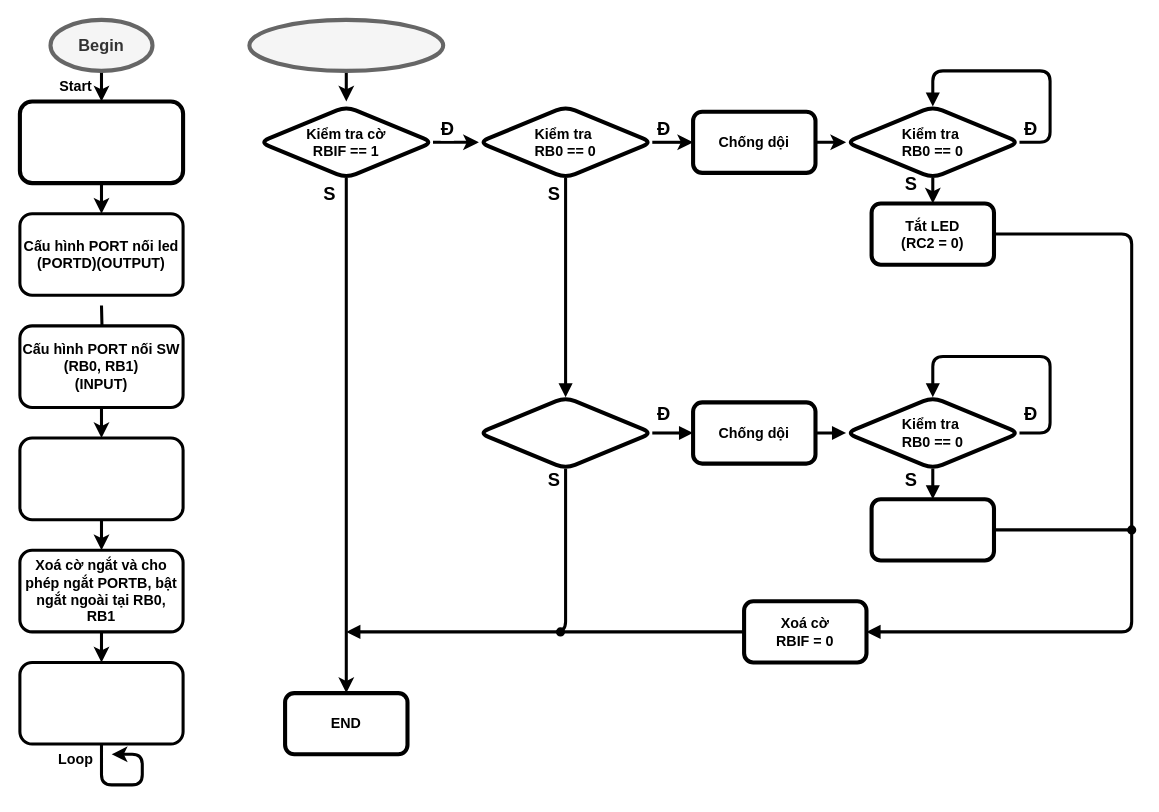
Some shapes in this 1159 by 812 pixel diagram are drawn without their labels. The centre of each missing label's shape, as x and y in pixels:
__interrupt() myIsr(): (346,44)
Cho phép module ngắt hoạt động: (101,702)
Cấu hình tất cả các Analog Input => Digital I/O: (101,142)
Kiểm tra RB1 == 0: (565,432)
Kích hoạt tính năng Pull-up (RB0, RB1) (INPUT): (101,478)
Sáng LED (RC2 = 1): (932,529)
